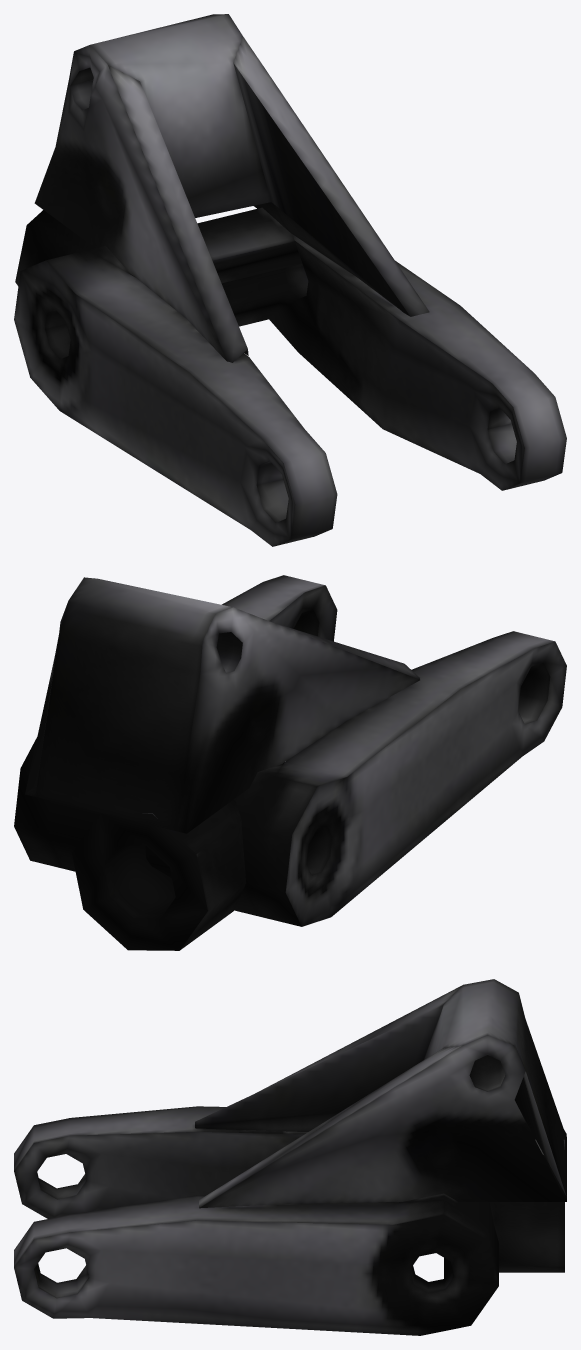
Rendered from l_uglut.dae.
3 views of the same model, one above another, from view 1: azimuth 30°, elevation 25°; view 2: azimuth 150°, elevation 25°; view 3: azimuth 270°, elevation 25° (orthographic). The views are drawn at different scales.
Parts seen in each view (by area): view 1: l_uglut; view 2: l_uglut; view 3: l_uglut.
Boxes of the visible parts, x1,y1,x2,y2 form: l_uglut: [14, 14, 566, 546]; l_uglut: [14, 575, 566, 950]; l_uglut: [14, 979, 566, 1335].
Bounding box in the file's own units: 0.0824 × 0.0922 × 0.1684.
Materials: 1 (1 with a texture image).
